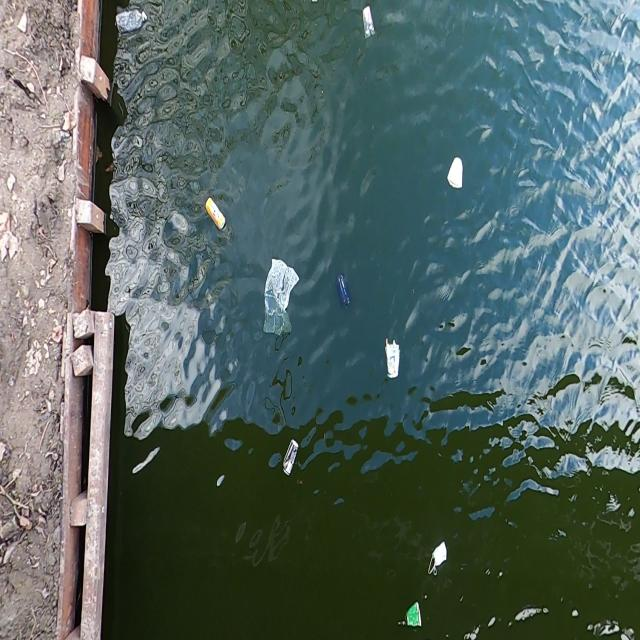Autre plastique: (380, 334, 404, 385)
Non plastique: (424, 537, 450, 580), (279, 437, 303, 483), (202, 198, 230, 234), (334, 270, 354, 316), (444, 157, 467, 194), (402, 600, 425, 633)
Sac plastique: (259, 253, 304, 344)
